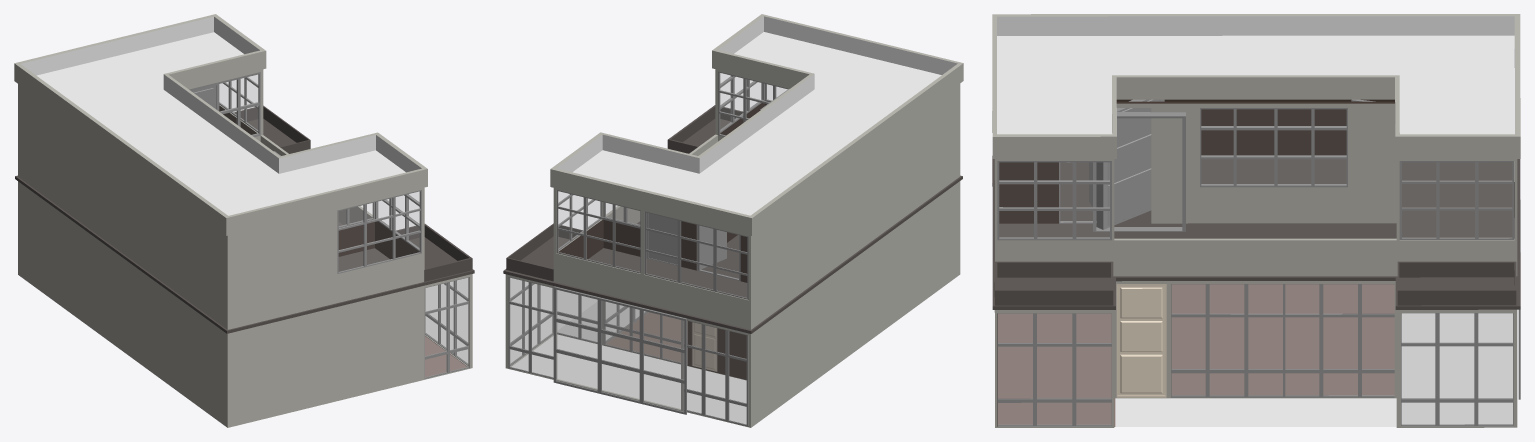
Rendered from HelpBuilding1.glb.
The picture shows the model from 3 angles, left to right: view 1: azimuth 30°, elevation 25°; view 2: azimuth 150°, elevation 25°; view 3: azimuth 270°, elevation 25°; orthographic projection. The views are drawn at different scales.
Visible parts, largest first — view 1: second floor, ground wall, first floor wall, first floor, window, window frame.001, window frame, door/window, ground floor, window.001, window.004; view 2: second floor, first floor wall, ground wall, sliding garage door..., ground floor, first floor, window.006, window frame.008, window.005, window frame.005, window frame.009, window.002 (+7 smaller); view 3: second floor, ground floor, first floor wall, first floor, window frame, window frame.007, window frame.003, window frame.006, window.003, window.001, window.004, door.005 (+3 smaller).
Boxes of the visible parts, <box> form: second floor: <box>14,14,427,235</box>; ground wall: <box>18,181,472,427</box>; first floor wall: <box>18,69,424,329</box>; first floor: <box>15,105,474,333</box>; window: <box>337,190,421,273</box>; window frame.001: <box>424,277,469,378</box>; window frame: <box>425,278,468,365</box>; door/window: <box>189,72,260,137</box>; ground floor: <box>425,336,466,377</box>; window.001: <box>375,194,419,251</box>; window.004: <box>219,77,258,132</box>; second floor: <box>550,14,963,235</box>; first floor wall: <box>553,69,960,329</box>; ground wall: <box>505,181,960,427</box>; sliding garage door...: <box>553,286,686,414</box>; ground floor: <box>511,301,746,424</box>; first floor: <box>503,105,962,333</box>; window.006: <box>644,211,748,299</box>; window frame.008: <box>683,320,748,426</box>; window.005: <box>556,190,640,273</box>; window frame.005: <box>508,277,553,378</box>; window frame.009: <box>603,301,687,365</box>; window.002: <box>718,71,788,136</box>; second floor: <box>992,14,1520,158</box>; ground floor: <box>998,284,1512,426</box>; first floor wall: <box>994,99,1517,276</box>; first floor: <box>992,156,1520,309</box>; window frame: <box>997,313,1111,426</box>; window frame.007: <box>1171,284,1283,397</box>; window frame.003: <box>1401,313,1513,426</box>; window frame.006: <box>1284,284,1394,397</box>; window.003: <box>1200,108,1347,187</box>; window.001: <box>997,161,1111,240</box>; window.004: <box>1399,161,1514,239</box>; door.005: <box>1093,99,1185,231</box>.
Bounding box in the file's own units: 32.63 × 26.64 × 48.13.
